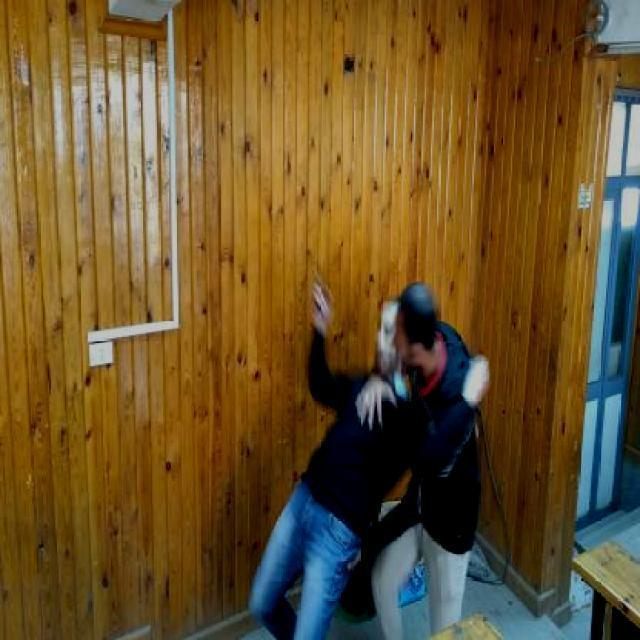fight: (252, 276, 496, 636)
